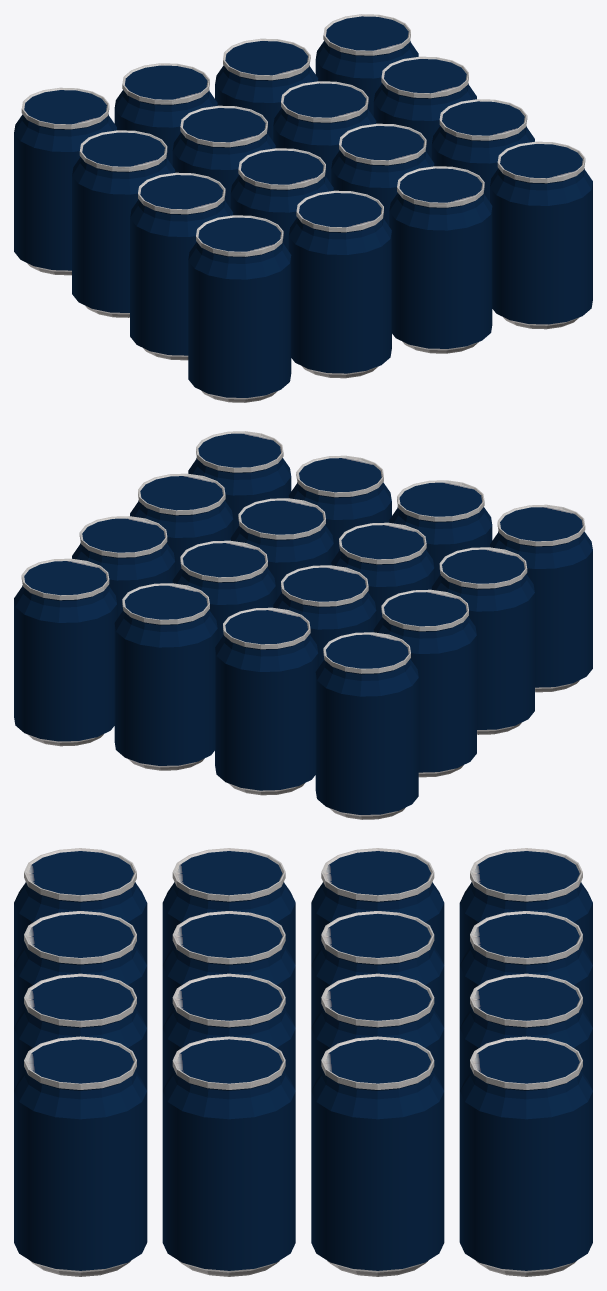
Rendered from Black_SodaCan.fbx.
3 renders of one model, top to bottom at view 1: azimuth 30°, elevation 25°; view 2: azimuth 150°, elevation 25°; view 3: azimuth 270°, elevation 25°, orthographic. The views are drawn at different scales.
Visible parts, largest first — view 1: BlackSoda_can4; view 2: BlackSoda_can4; view 3: BlackSoda_can4.
Part boxes in pixels (bbox=[...]): BlackSoda_can4: bbox=[14, 14, 592, 402]; BlackSoda_can4: bbox=[14, 431, 592, 819]; BlackSoda_can4: bbox=[14, 848, 592, 1276].
Size of the model in its own units: 38.96 by 14.45 by 38.96.
